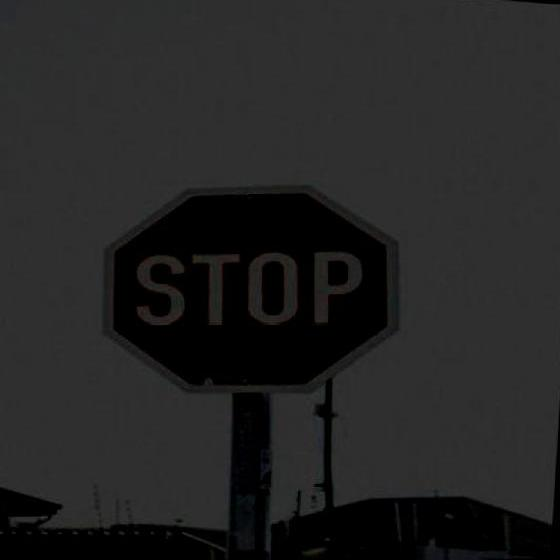stop_sign: (96, 166, 411, 406)
